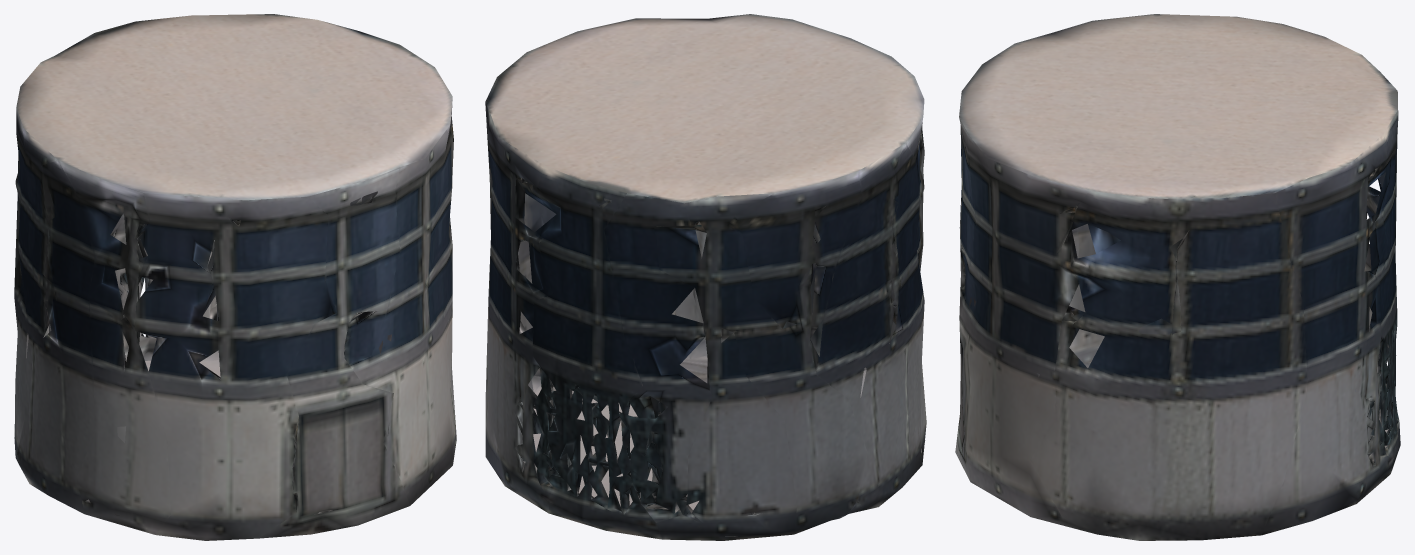
Rendered from 남산_철제전망대.glb.
The picture shows the model from 3 angles, left to right: view 1: azimuth 30°, elevation 25°; view 2: azimuth 150°, elevation 25°; view 3: azimuth 270°, elevation 25°; orthographic projection.
Visible parts, largest first — view 1: texture_mapping; view 2: texture_mapping; view 3: texture_mapping.
Boxes of the visible parts, left/top/right/bottom form: texture_mapping: left=14, top=14, right=456, bottom=540; texture_mapping: left=485, top=14, right=926, bottom=540; texture_mapping: left=955, top=14, right=1400, bottom=540.
Bounding box in the file's own units: 1 × 0.866 × 1.01.
1 material, 1 textured.
